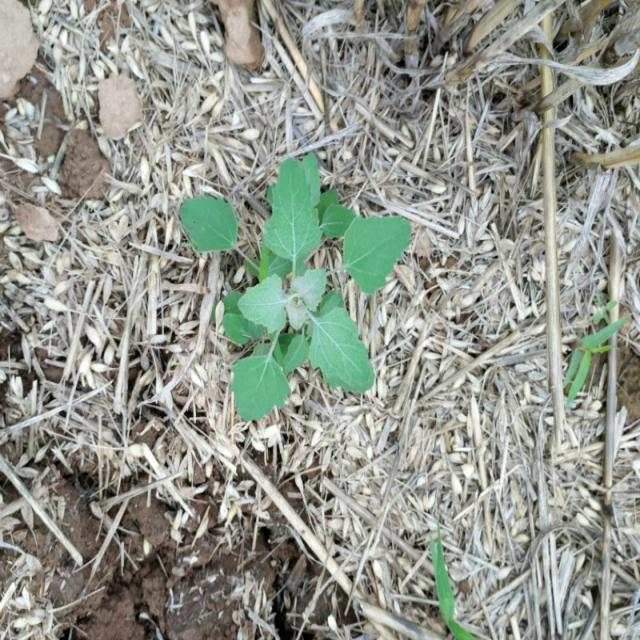goosefoots: (165, 144, 425, 429)
